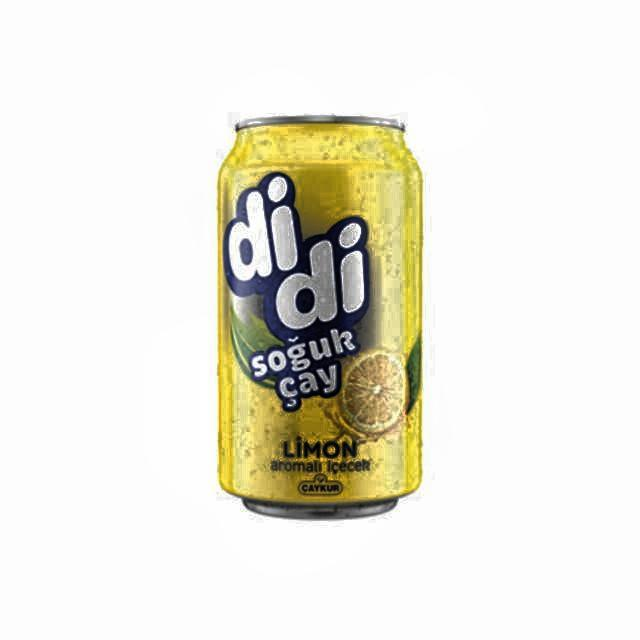metal: (215, 115, 426, 522)
